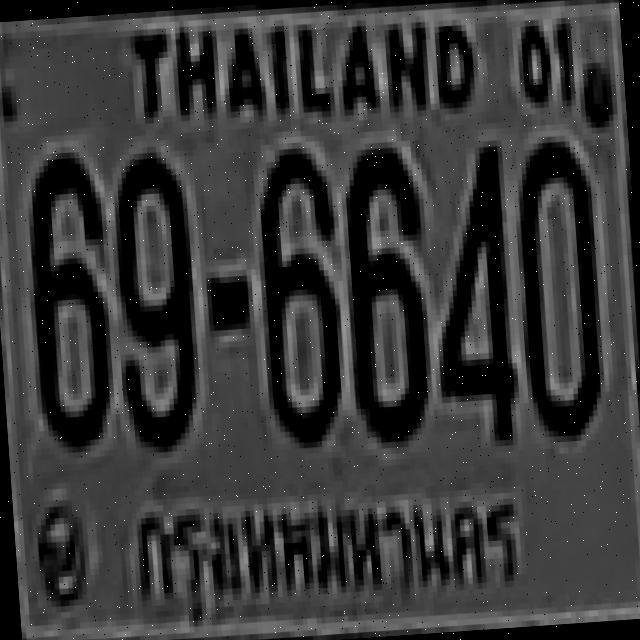0: (510, 134, 603, 432)
4: (419, 137, 517, 441)
6: (333, 140, 430, 438), (251, 140, 344, 444)
9: (108, 150, 205, 448)
Bangkok: (124, 466, 526, 636)
